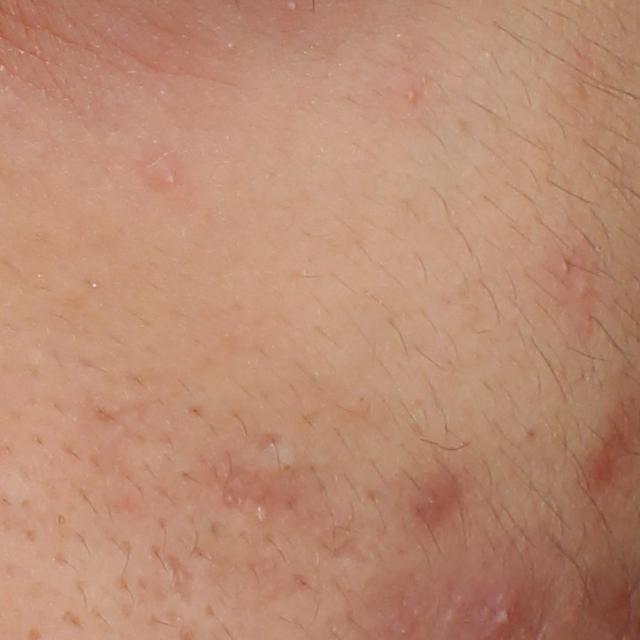atrophic_scar: (202, 456, 319, 529), (163, 553, 198, 610), (255, 429, 283, 454)
